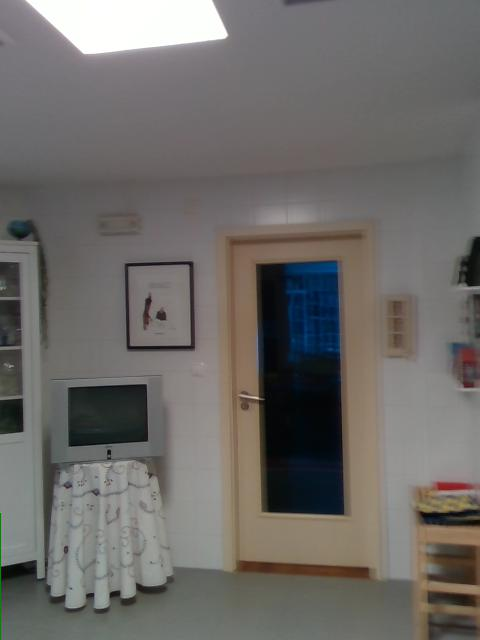door: (219, 217, 387, 585)
